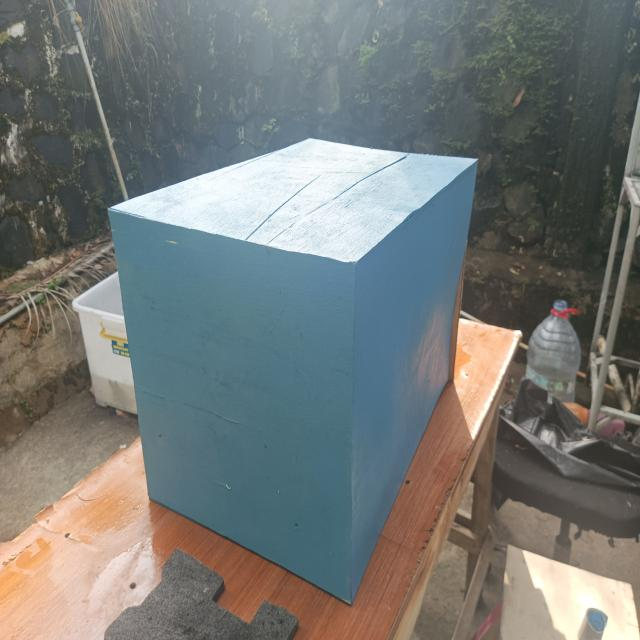blue_box: (115, 134, 471, 588)
